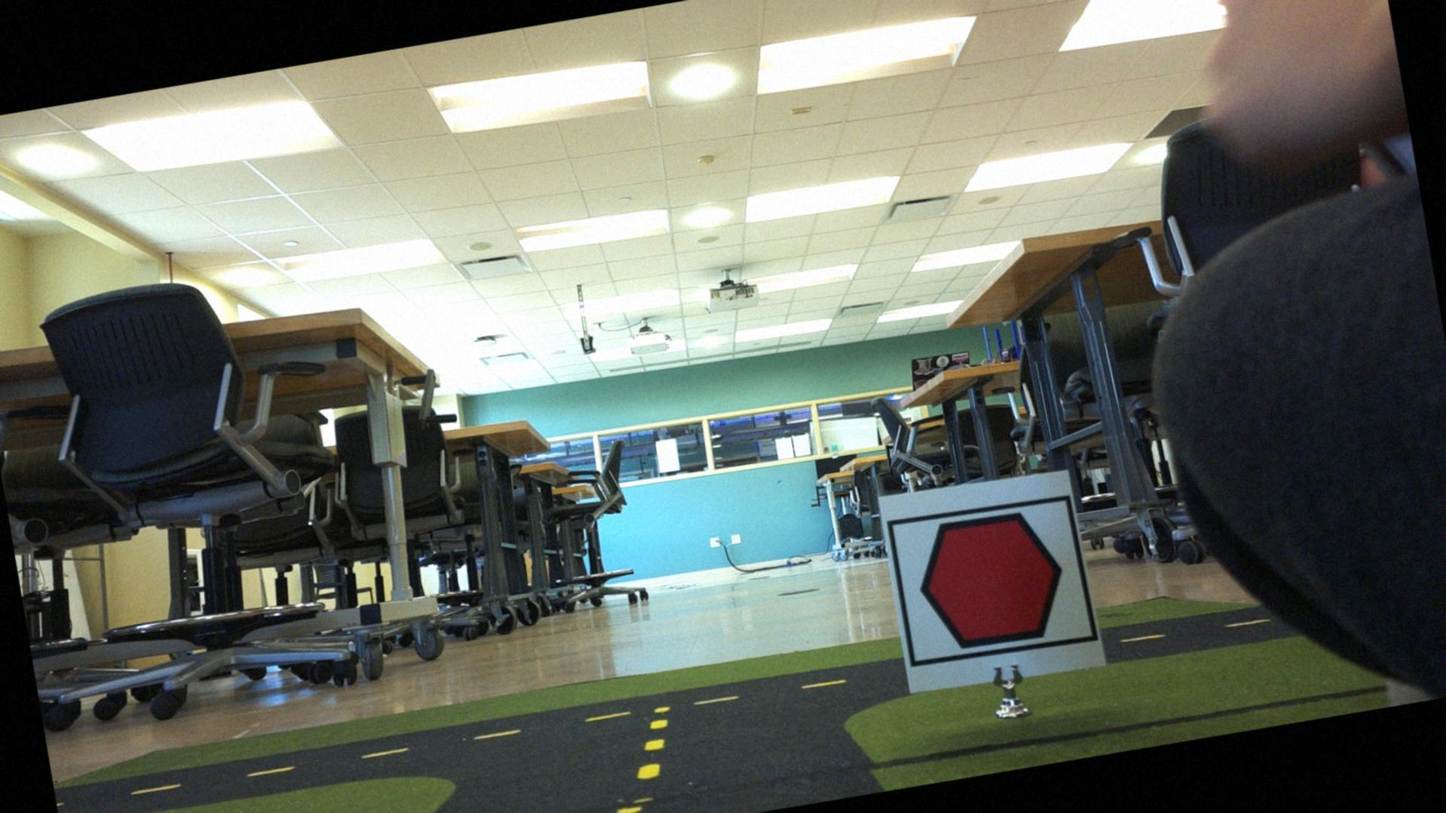stop: (895, 496, 1084, 666)
yellowline: (604, 716, 682, 812)
